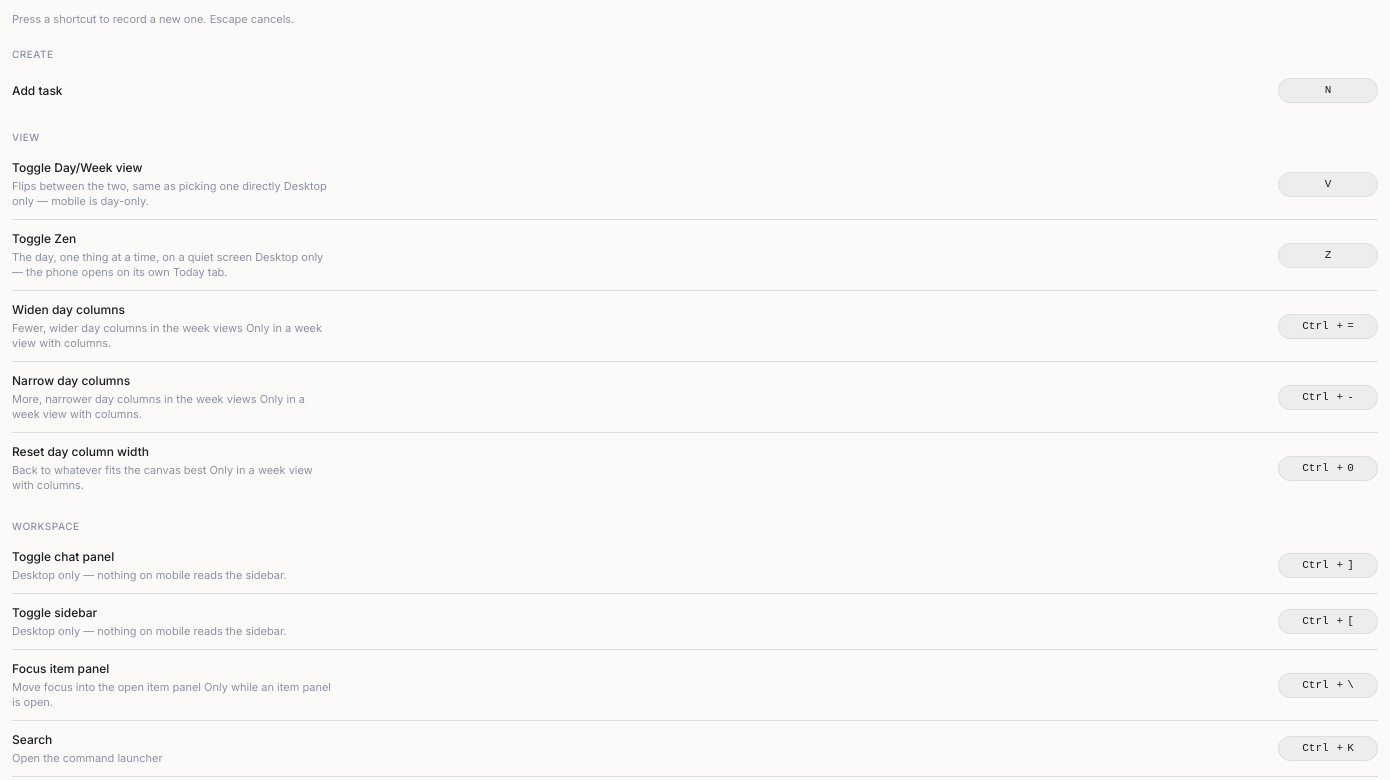
Scenario: recording a chord › refuses a chord another binding already answers to, and names it
The image size is (1390, 780).
Step 1. Click the button "N" → (1328, 90), box 1278,78 -> 1378,102
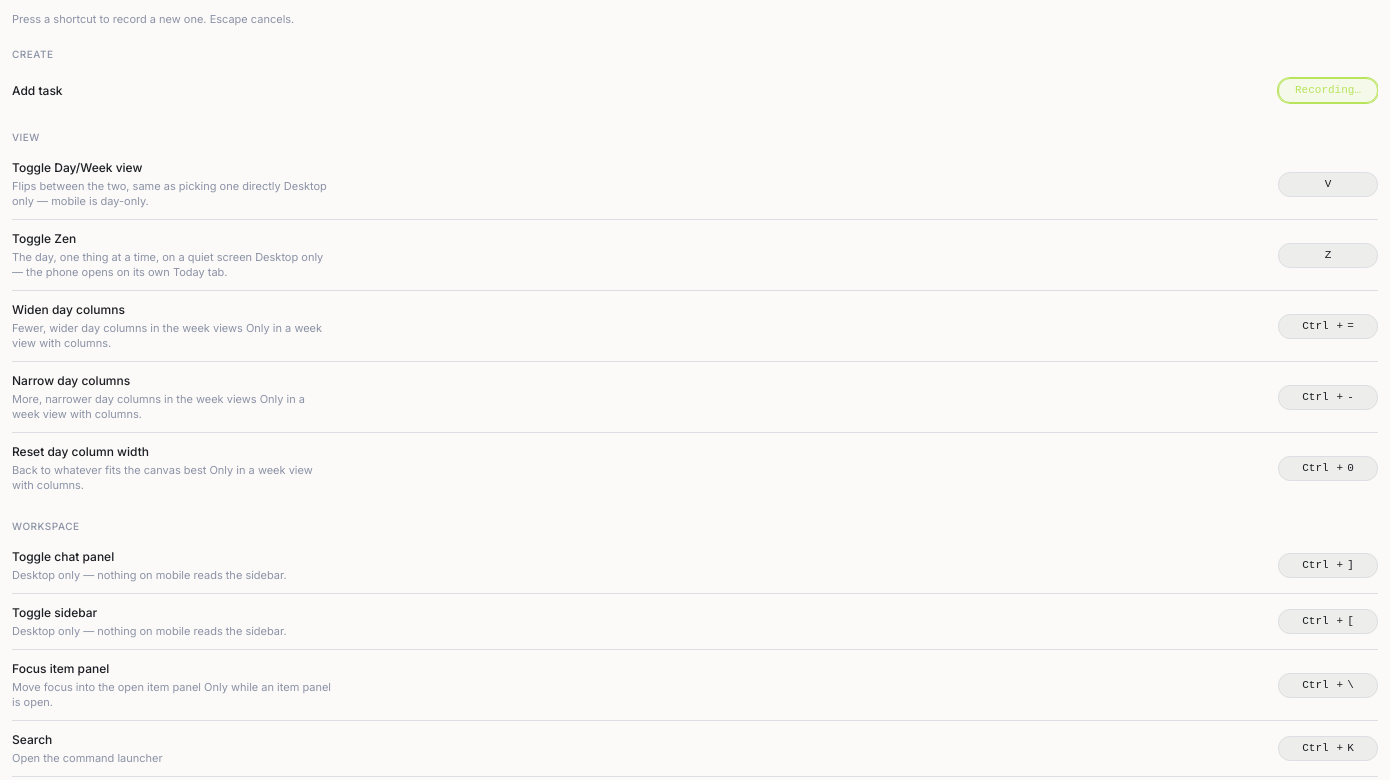
Step 2. Press k in the button "Recording…", box 1278,78 -> 1378,102
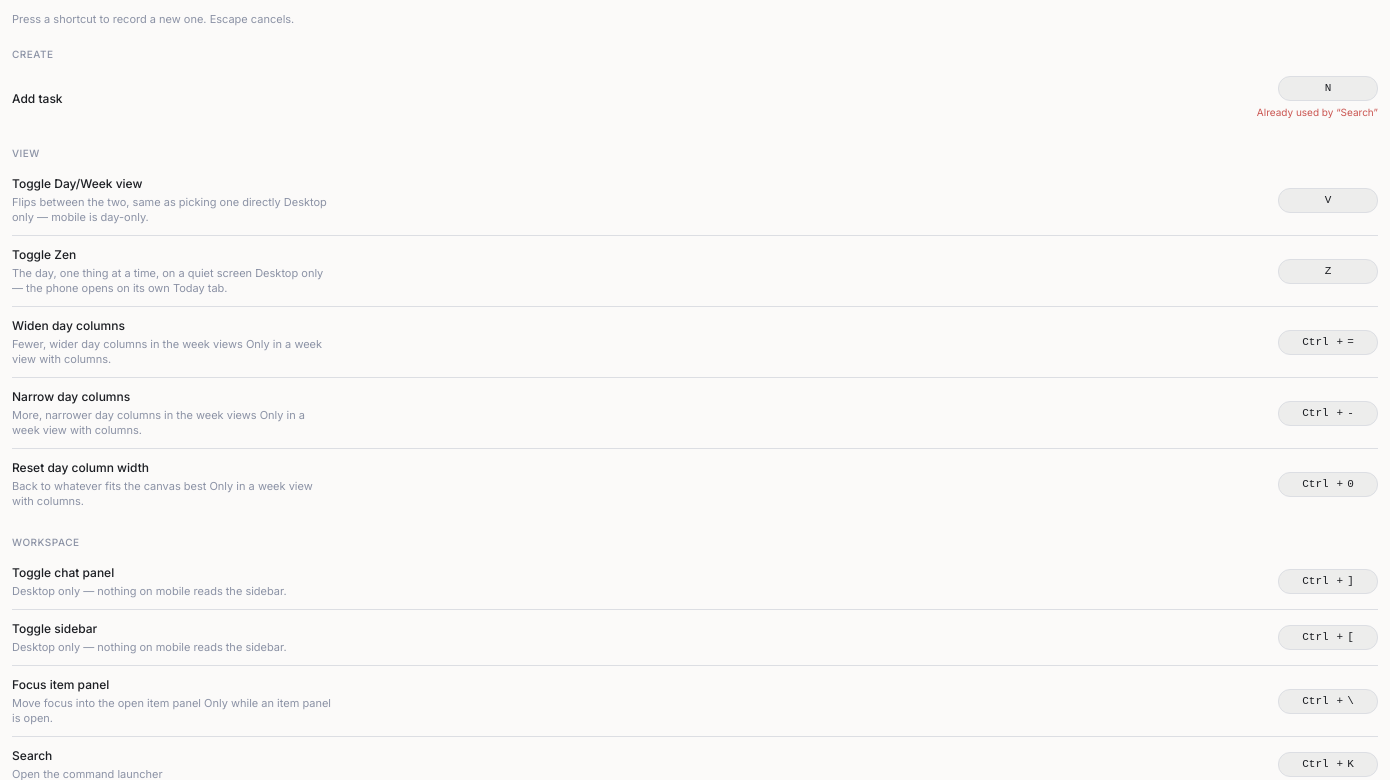
Expected: the text "Already used by “Search”" is shown, 1257,105 -> 1378,120
